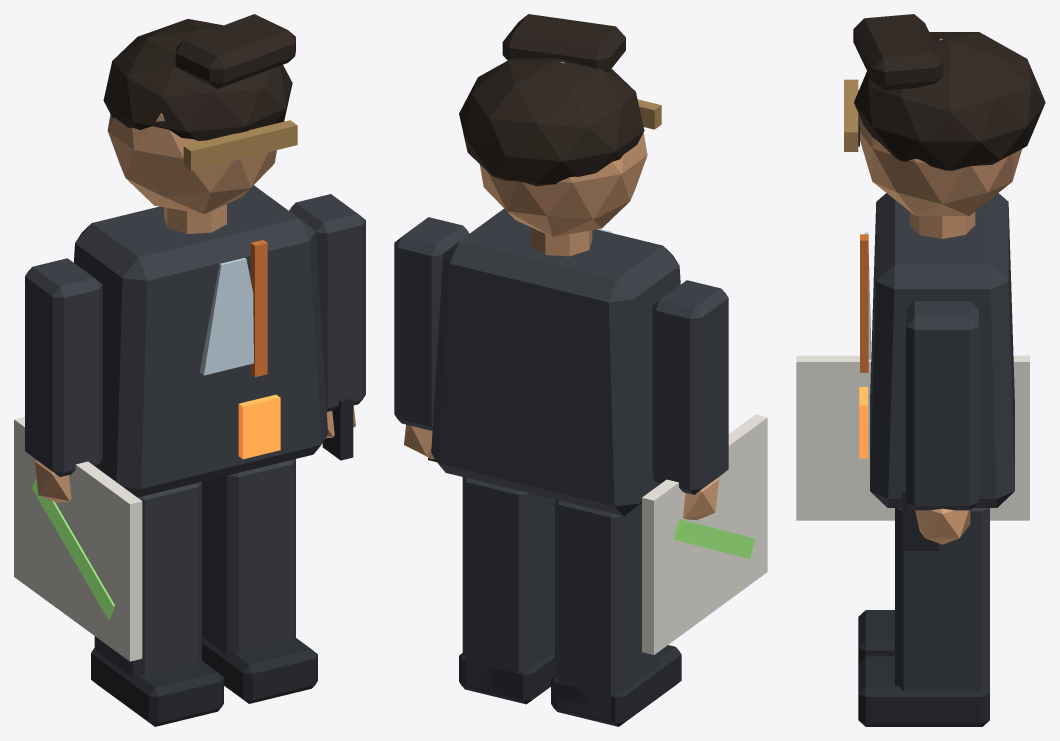
The model's file is consultant.glb.
The picture shows the model from 3 angles, left to right: view 1: azimuth 30°, elevation 25°; view 2: azimuth 150°, elevation 25°; view 3: azimuth 270°, elevation 25°; orthographic projection. The views are drawn at different scales.
Parts seen in each view (by area): view 1: Body, ArmR, LegL, LegR, Props, ArmL; view 2: Body, ArmR, LegR, LegL, ArmL; view 3: Body, LegL, ArmL, ArmR, Props, LegR.
Part boxes in pixels (left/top/right/bottom): Body: left=74, top=14, right=327, bottom=497; ArmR: left=14, top=258, right=142, bottom=661; LegL: left=202, top=459, right=317, bottom=703; LegR: left=91, top=482, right=223, bottom=726; Props: left=183, top=120, right=297, bottom=459; ArmL: left=289, top=194, right=365, bottom=460; Body: left=431, top=14, right=680, bottom=516; ArmR: left=642, top=280, right=767, bottom=654; LegR: left=551, top=499, right=681, bottom=726; LegL: left=459, top=477, right=554, bottom=704; ArmL: left=394, top=217, right=469, bottom=462; Body: left=853, top=14, right=1045, bottom=507; LegL: left=858, top=508, right=989, bottom=726; ArmL: left=902, top=301, right=978, bottom=550; ArmR: left=796, top=355, right=1029, bottom=520; Props: left=844, top=79, right=870, bottom=458; LegR: left=858, top=610, right=894, bottom=662.
Size of the model in its own units: 0.7507 by 1.5 by 0.512.
